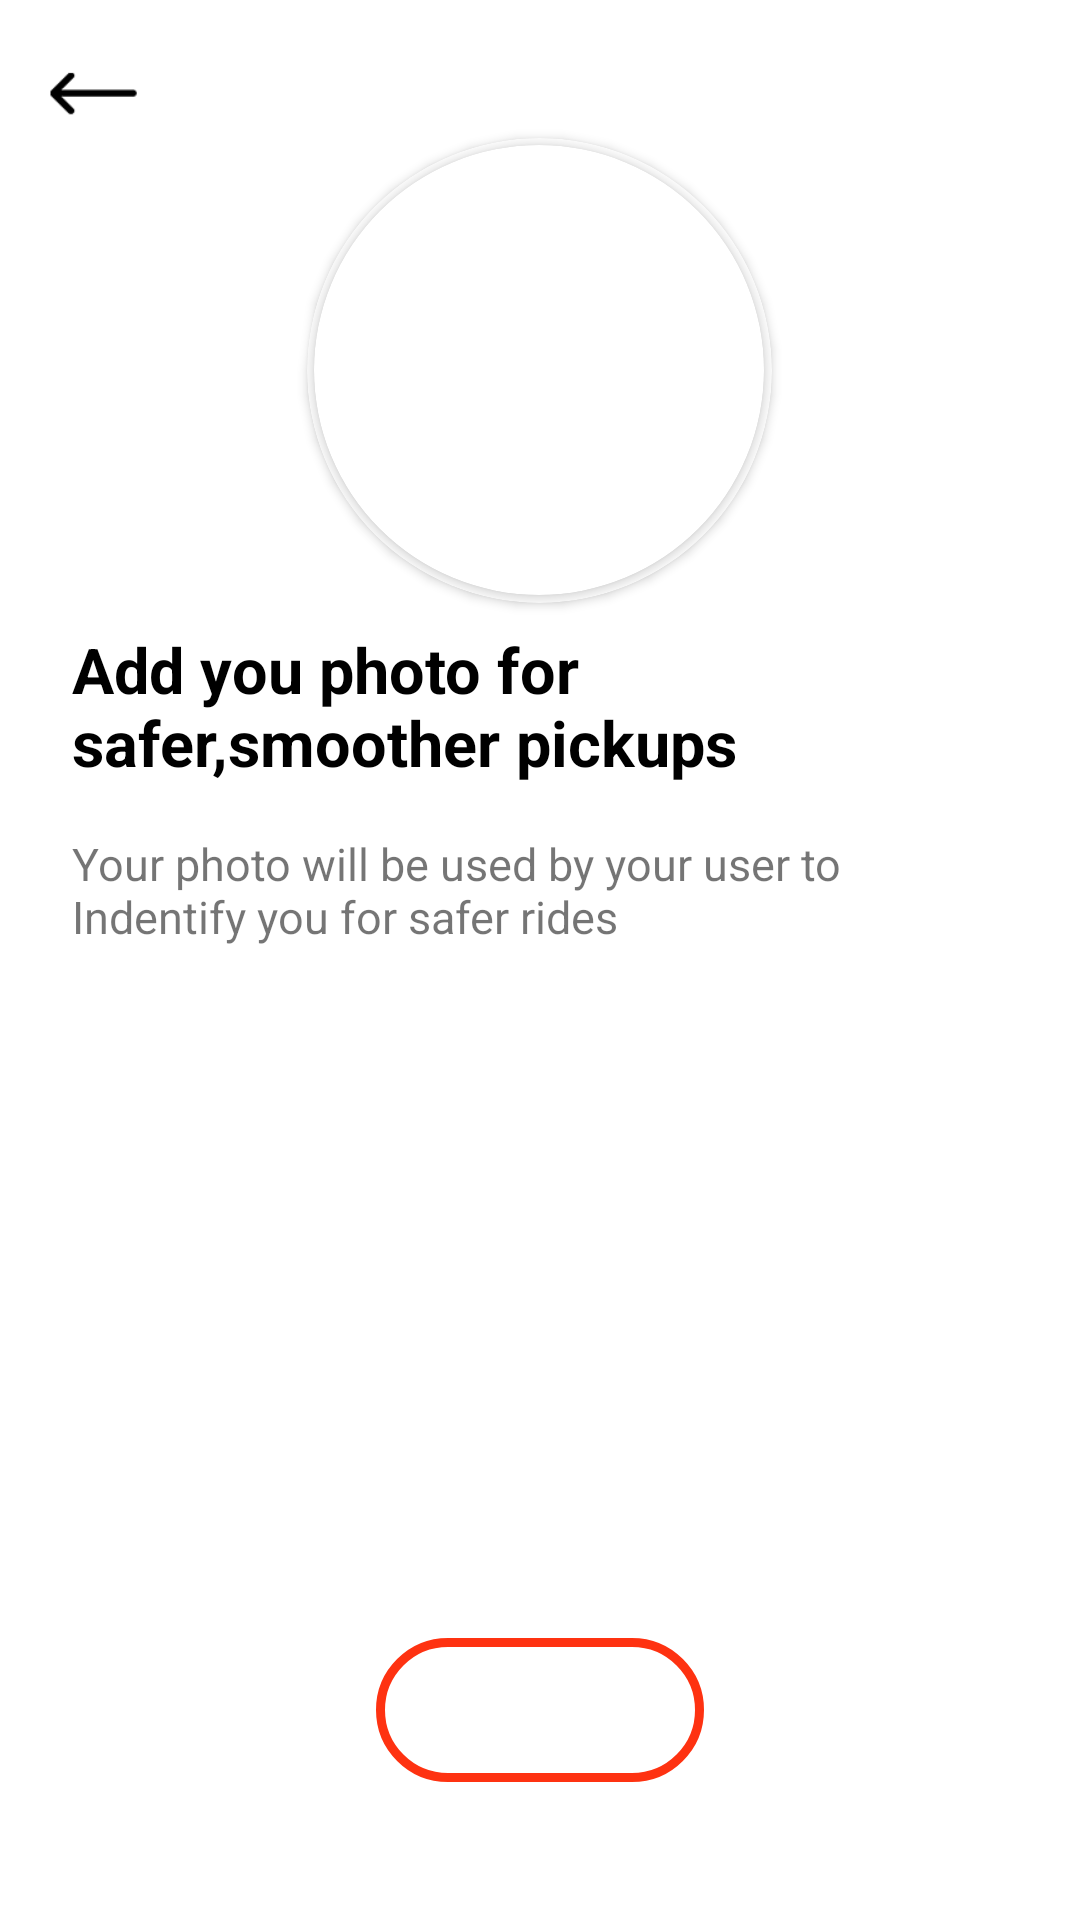

Icon click points for this 1080×1920 phone screenshot, format (x=x, y=y):
backarrow: (x=93, y=93)
